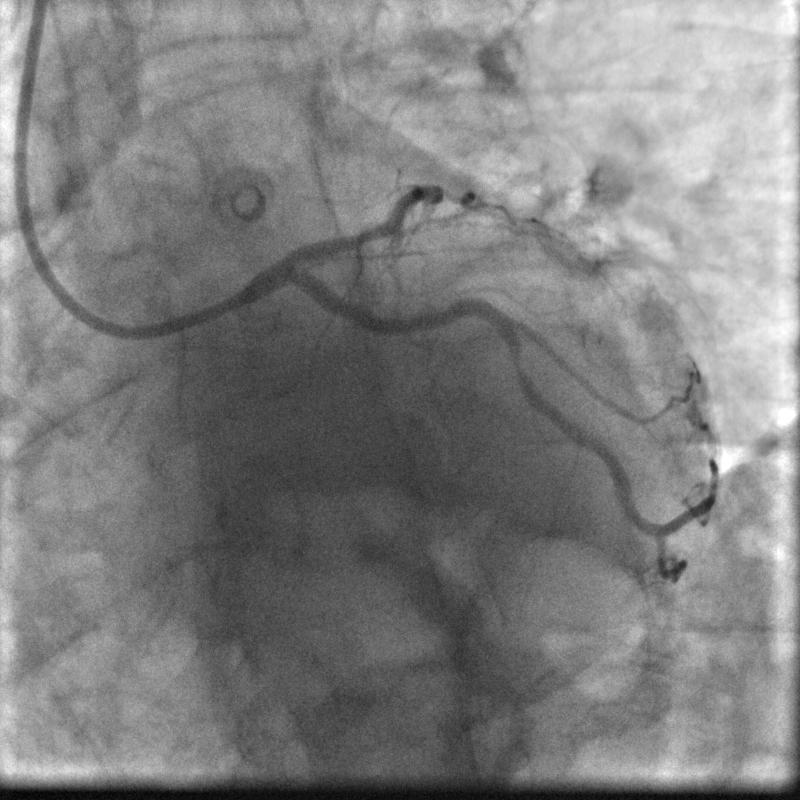Stenosis: (510, 349, 527, 372)
